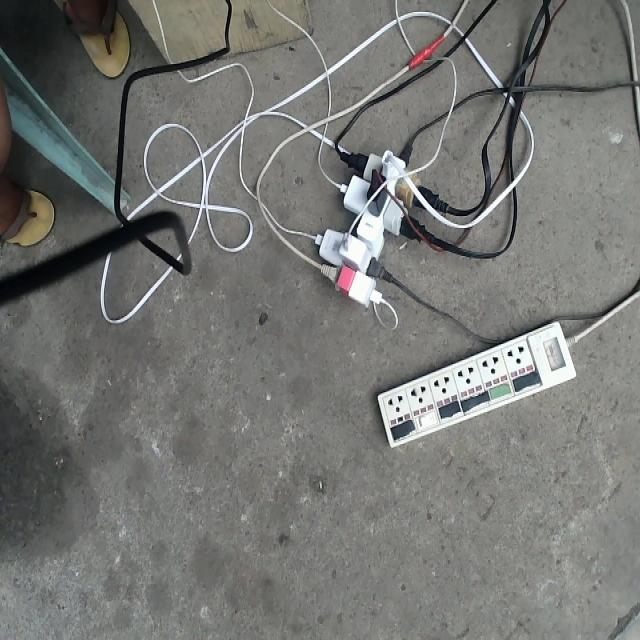-: (318, 139, 445, 308)
